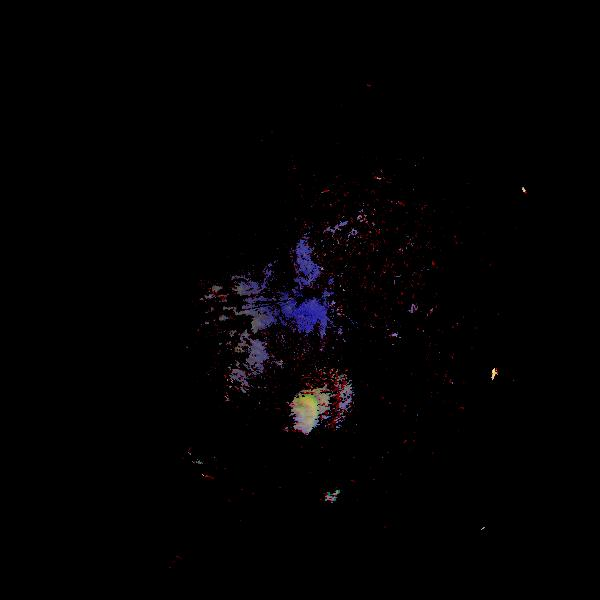roost: (279, 391, 321, 433), (316, 478, 343, 505)
